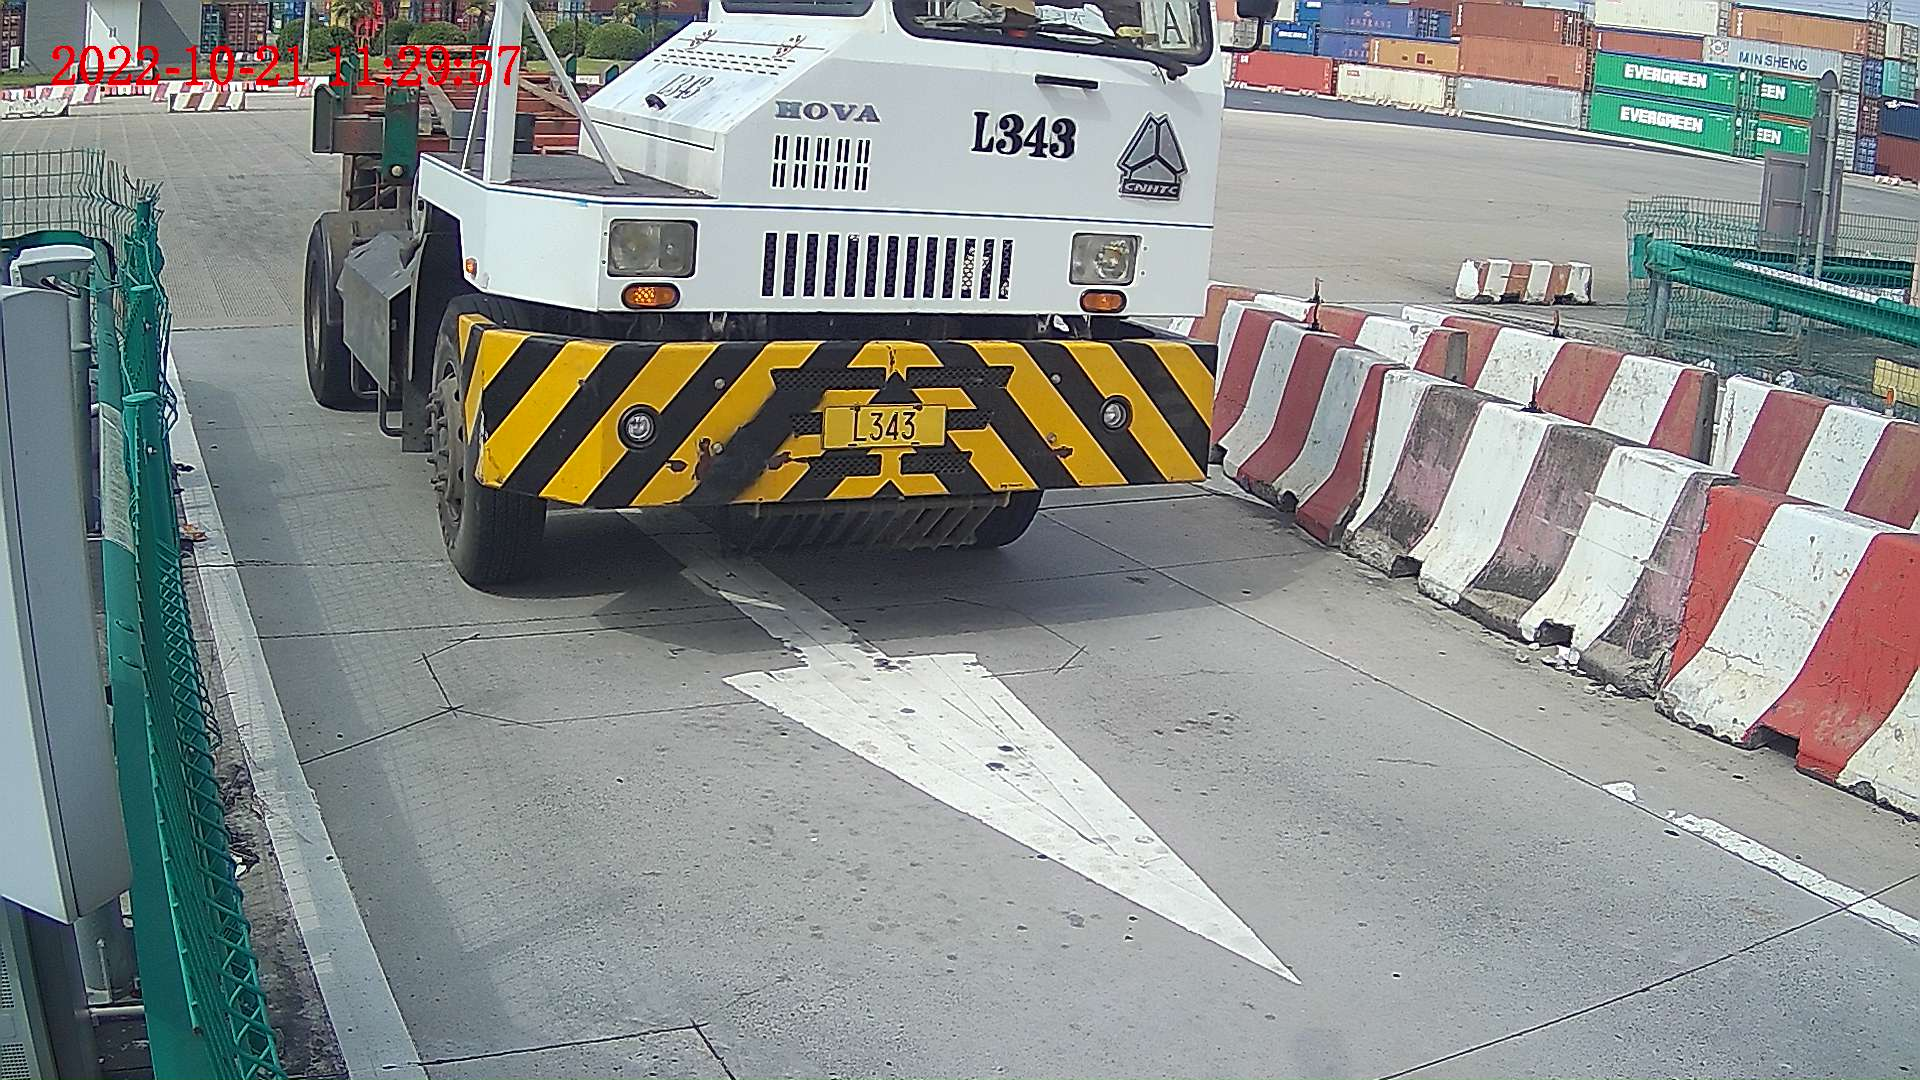head: (388, 1, 1274, 613)
plate: (824, 405, 945, 447)
